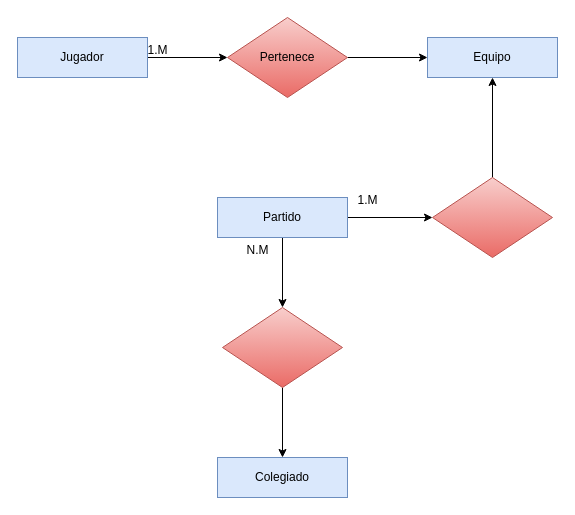
The diagram is 575 pixels wide and 515 high, and some of its shapes have lost their labels. The shapes that lost their labels are listed below. From the top down, each one's centre as x and y in pixels, then its label:
[492,217]: Involucra
[282,347]: tiene
